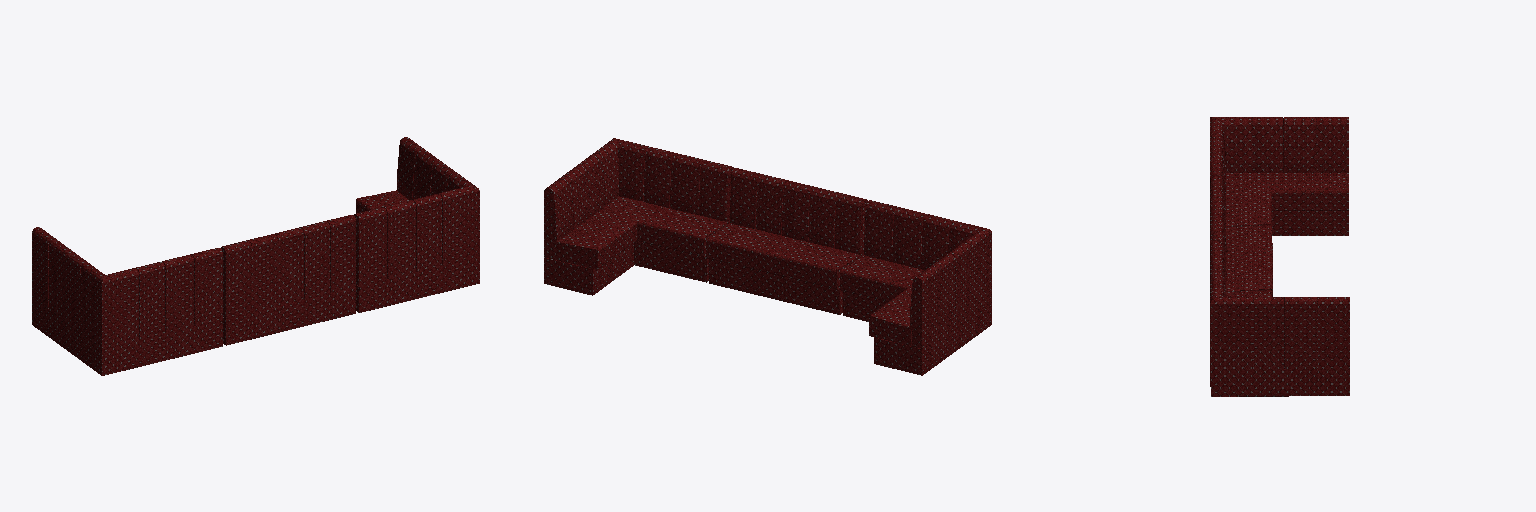
3 views of the same model, side by side, from view 1: azimuth 30°, elevation 25°; view 2: azimuth 150°, elevation 25°; view 3: azimuth 270°, elevation 25° (orthographic).
Visible parts, largest first — view 1: Sillon_L; view 2: Sillon_L; view 3: Sillon_L.
Boxes of the visible parts, <box> form: Sillon_L: <box>32,137,479,375</box>; Sillon_L: <box>544,138,991,375</box>; Sillon_L: <box>1210,117,1349,396</box>.
Size of the model in its own units: 25.66 by 6.29 by 8.27.
1 materials, 1 textured.